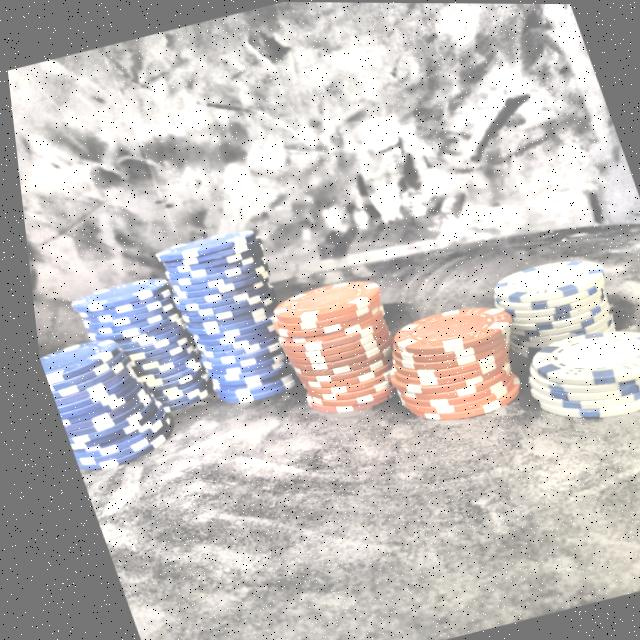Chip: (244, 249, 417, 431), (50, 254, 216, 442), (353, 279, 536, 441), (148, 229, 303, 414), (27, 313, 174, 480), (491, 300, 640, 445), (466, 243, 621, 371)
